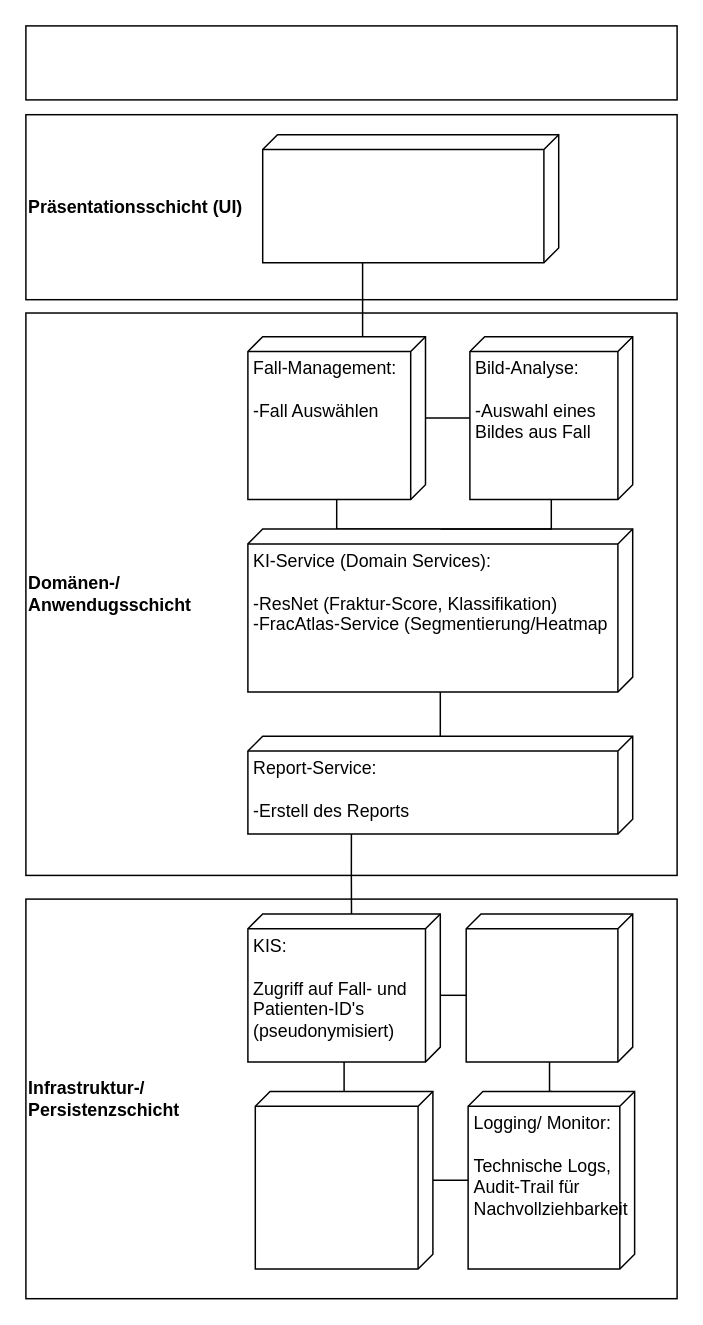
Some shapes in this 703 by 1325 pixel diagram are drawn without their labels. The shapes that lost their labels are listed below. From the top down, each one's centre as x and y in pixels, then its label:
the point at 350,62: Architekturmodell für FixRay!
the point at 410,198: FixRay Desktop
the point at 549,987: PACS/ DICOM: Laden und Speihern von Röntgenbildern
the point at 343,1179: Datenbank /Storage: Speicherung von Fällen, Analyse-Metadaten, Reports
